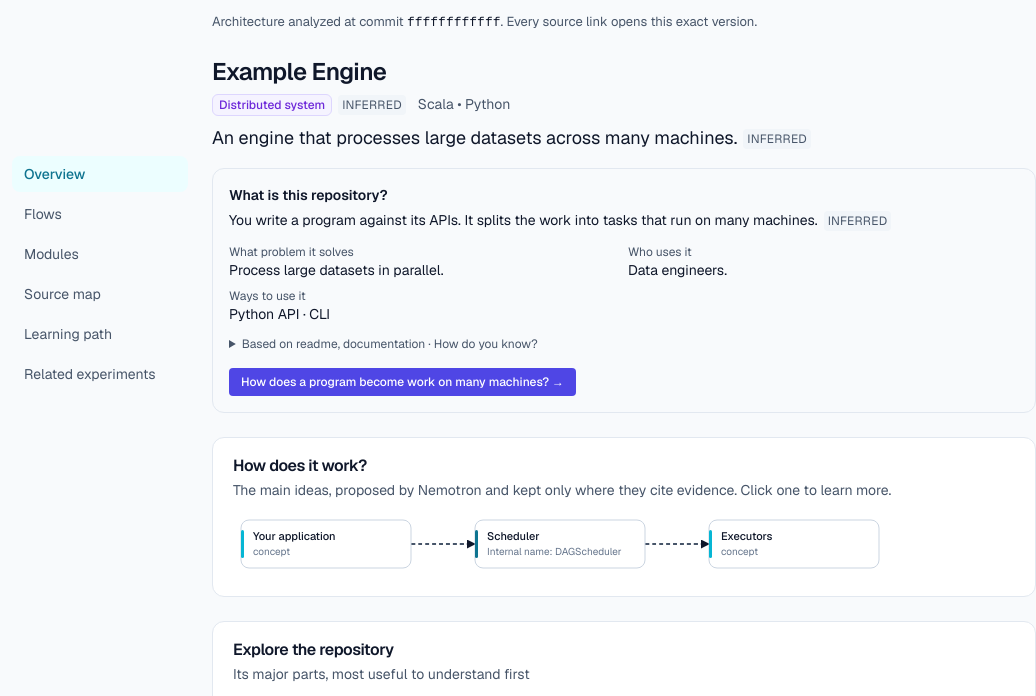
Test case: perspectives › look at the same architecture from different sides, starting with the map
What coordinates should you click on to do the following:
click the button with test id "perspective-modules"
I would click on:
 (100, 254)
Its box is left=12, top=236, right=188, bottom=272.
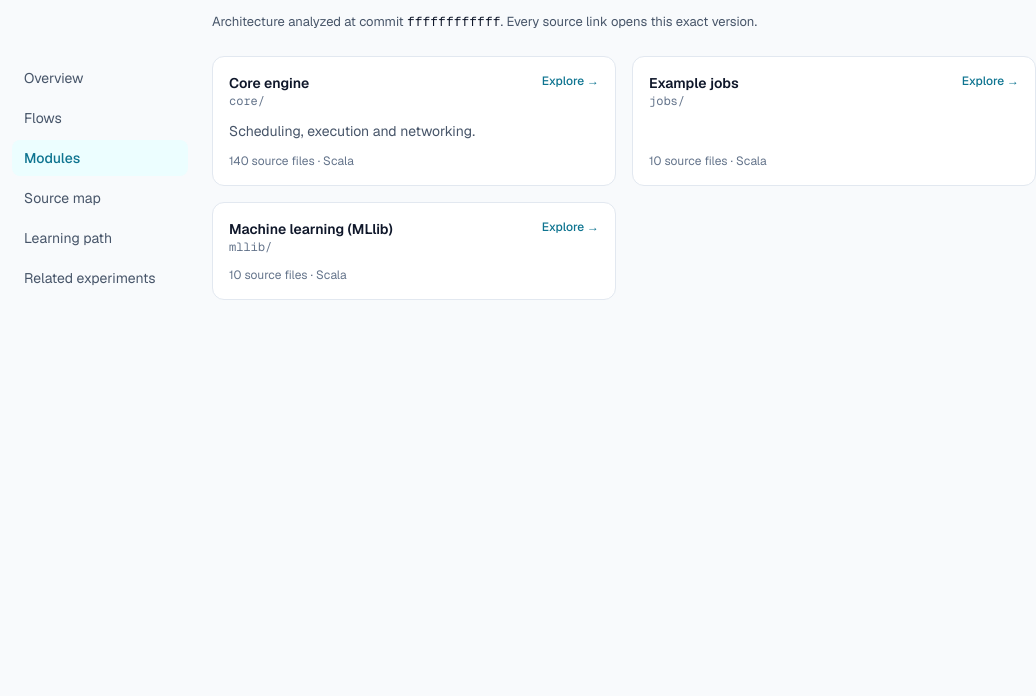
Result: the element with test id "orientation" is gone
Result: the number of list items with test id "module-card" is 3 at left=212, top=56, right=616, bottom=186; left=632, top=56, right=1035, bottom=186; left=212, top=202, right=616, bottom=300
What coordinates should you click on to do the following:
click the button with test id "perspective-overview"
I would click on:
 (100, 78)
Its box is left=12, top=60, right=188, bottom=96.
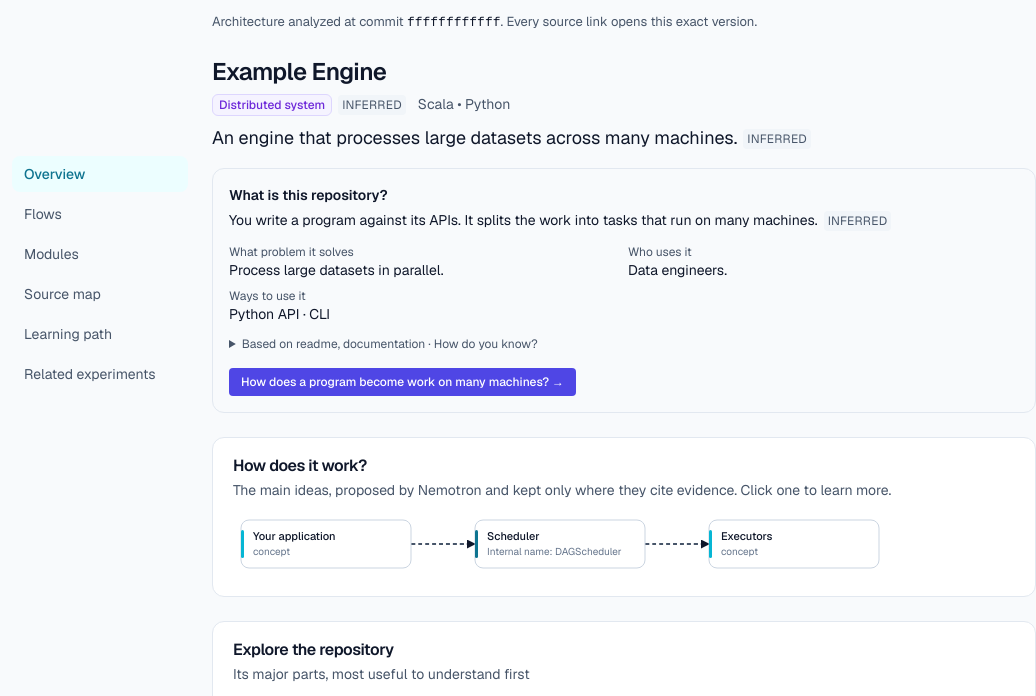
Result: the element with test id "orientation" is shown at left=212, top=56, right=1035, bottom=413
